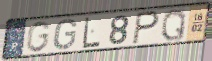8: (109, 15, 130, 45)
G: (24, 20, 52, 54), (52, 18, 78, 51)
L: (81, 16, 101, 50)
P: (131, 9, 161, 46)
Q: (160, 7, 187, 42)
